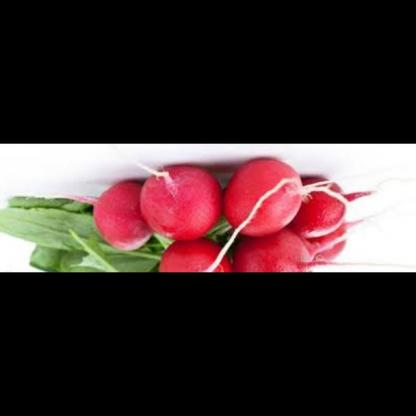rediska: (222, 159, 305, 239), (140, 166, 223, 244), (227, 226, 329, 273), (94, 179, 154, 253), (292, 176, 355, 241), (156, 240, 238, 273), (304, 222, 361, 264)
